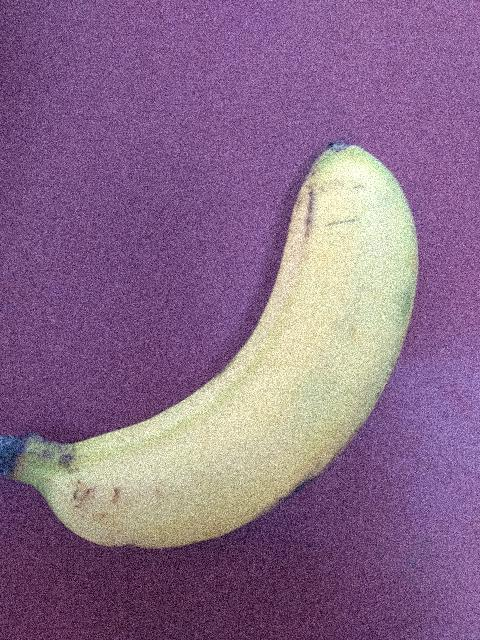freshripe: (42, 146, 416, 572)
